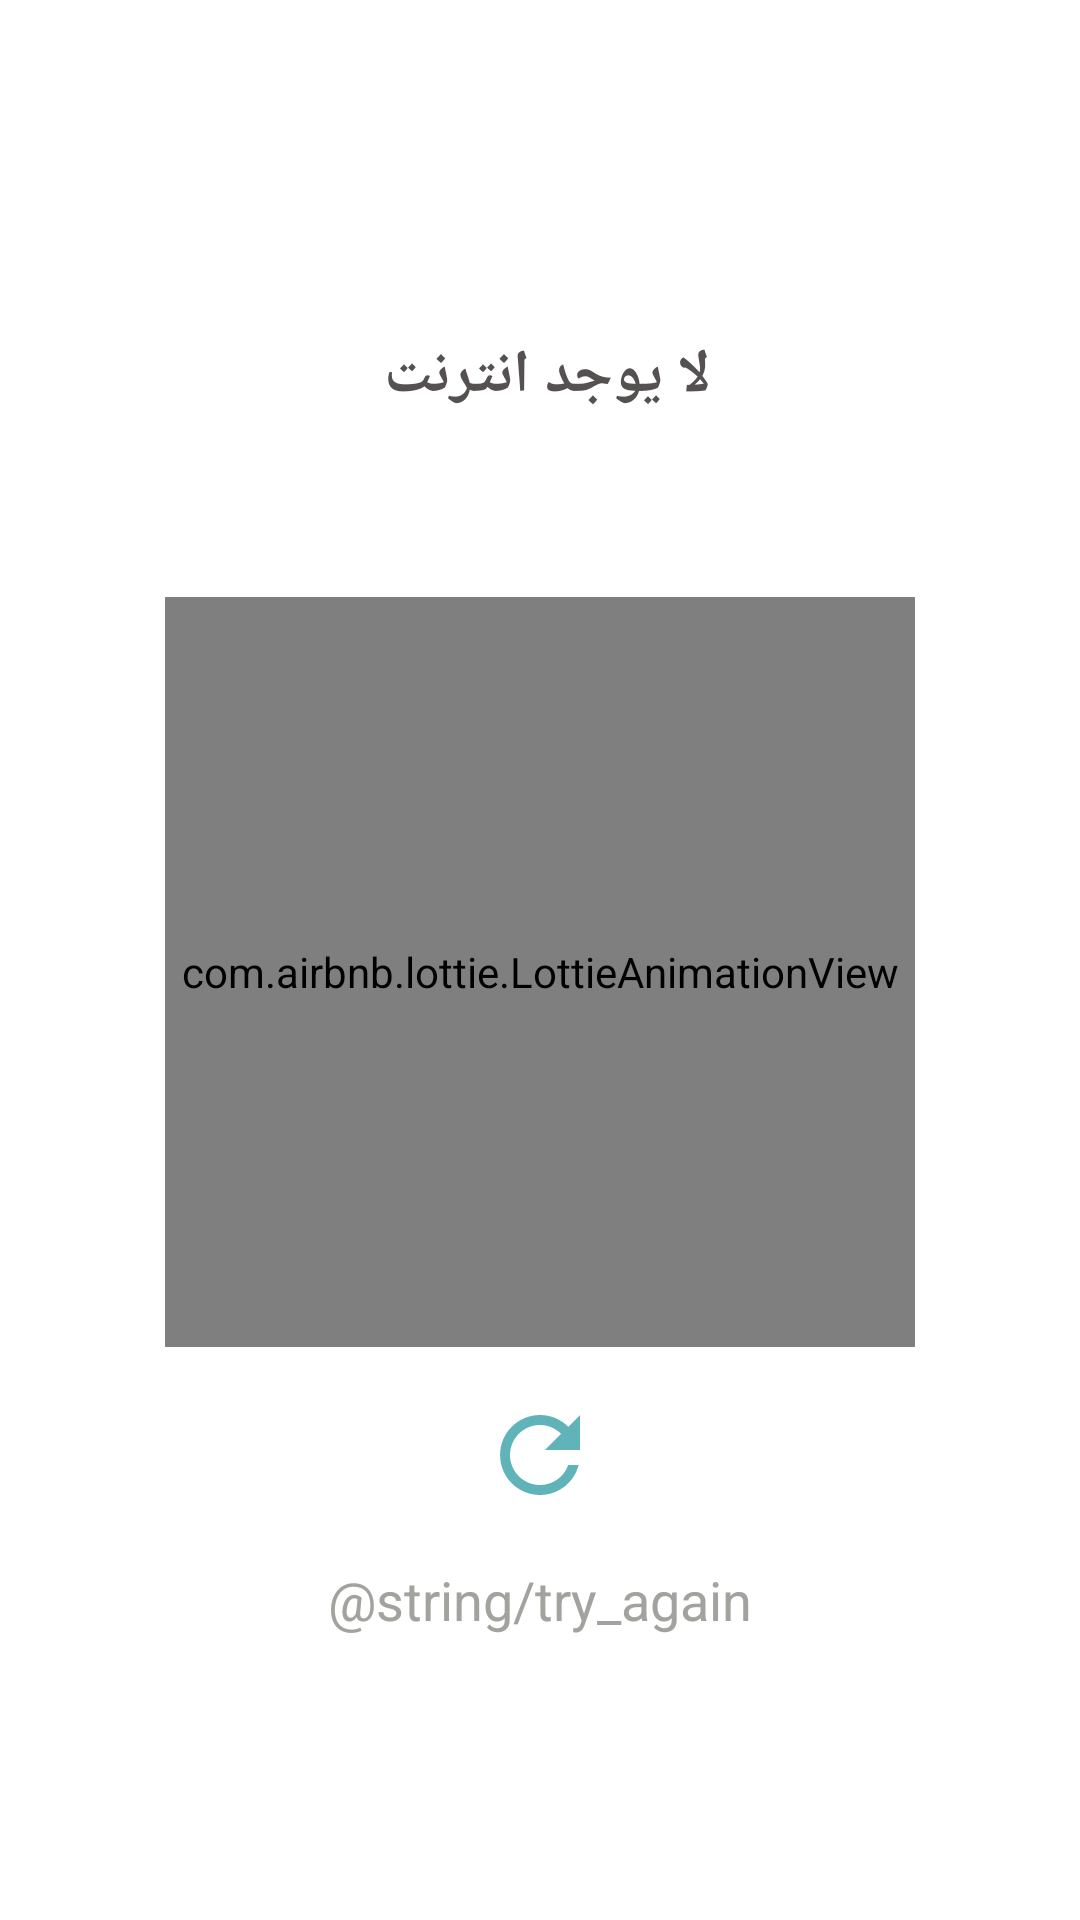

Point at icon controls on the screen. Image size 1080 x 1920, points as [x,y].
refresh: [540,1455]
